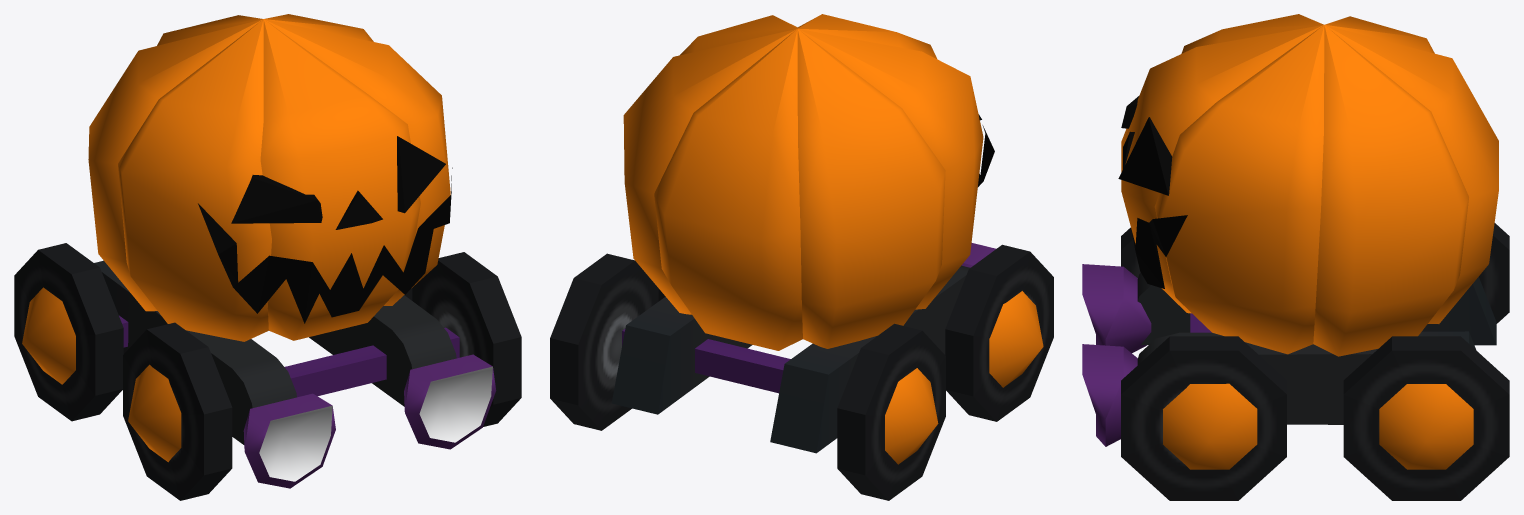
Rendered from head_Holloween.fbx.
3 views of the same model, side by side, from view 1: azimuth 30°, elevation 25°; view 2: azimuth 150°, elevation 25°; view 3: azimuth 270°, elevation 25° (orthographic). The views are drawn at different scales.
Visible parts, largest first — view 1: head_Holloween; view 2: head_Holloween; view 3: head_Holloween.
Boxes of the visible parts, <box> form: head_Holloween: <box>14,14,521,500</box>; head_Holloween: <box>550,14,1053,500</box>; head_Holloween: <box>1082,14,1509,500</box>.
Size of the model in its own units: 1676 by 1621 by 1581.
